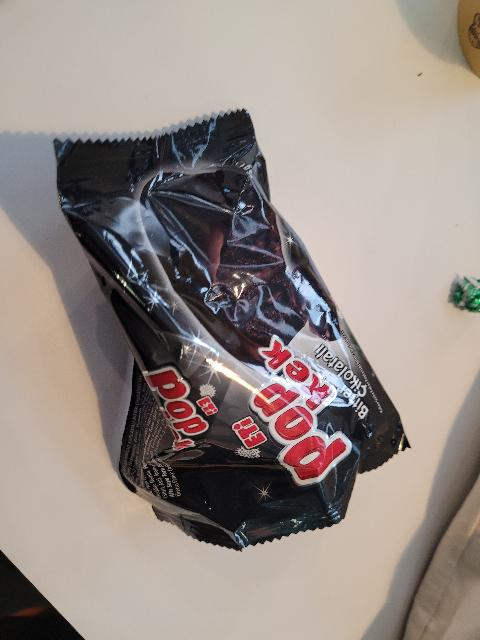Plastik: (56, 105, 413, 544)
